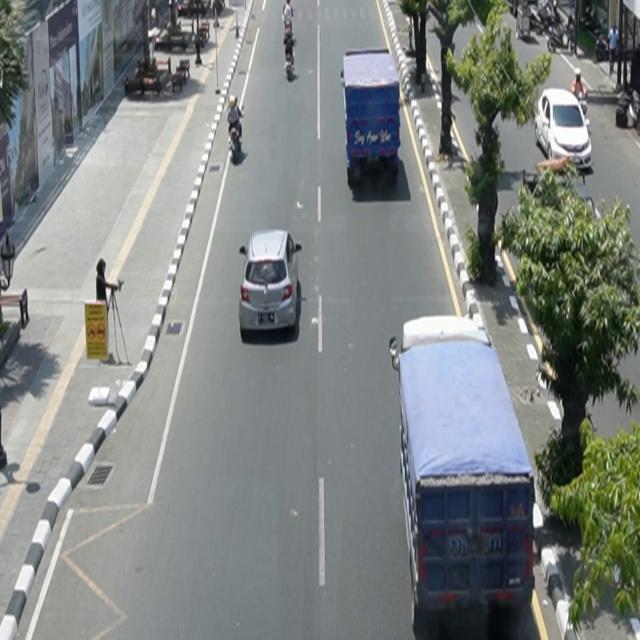car: (239, 230, 303, 335), (536, 88, 594, 173)
truck: (390, 314, 540, 638), (341, 48, 402, 188)
